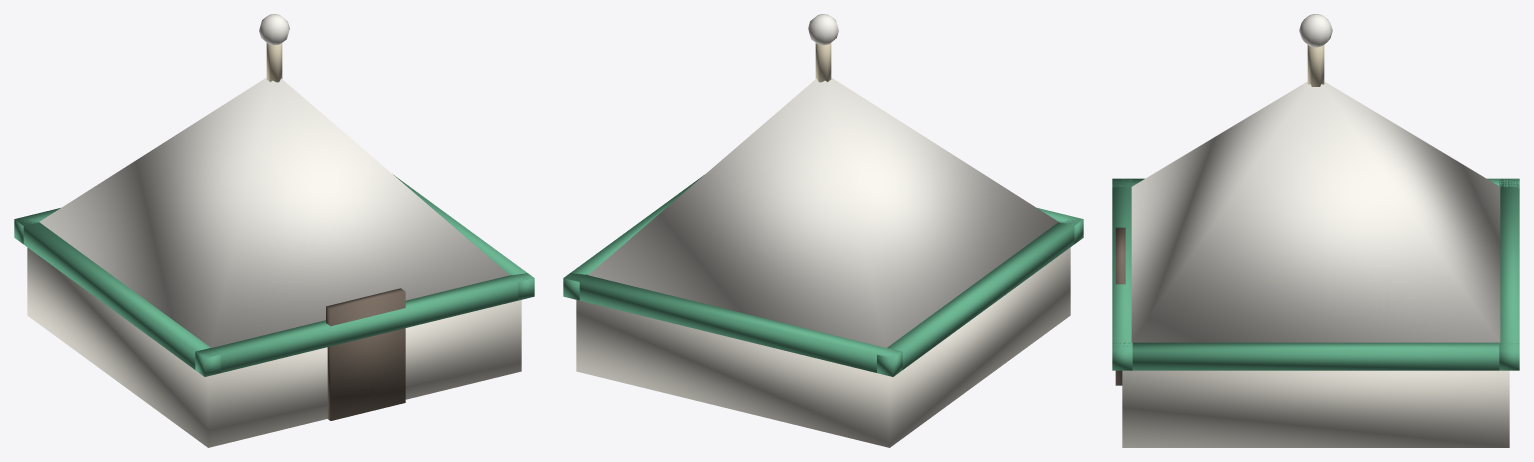
File: tent.glb
The picture shows the model from 3 angles, left to right: view 1: azimuth 30°, elevation 25°; view 2: azimuth 150°, elevation 25°; view 3: azimuth 270°, elevation 25°; orthographic projection. The views are drawn at different scales.
Visible parts, largest first — view 1: walls; view 2: walls; view 3: walls.
Boxes of the visible parts, x1,y1,x2,y2 form: walls: (14, 14, 534, 447); walls: (563, 14, 1083, 447); walls: (1112, 14, 1519, 447).
Size of the model in its own units: 2.42 by 2.3 by 2.42.
